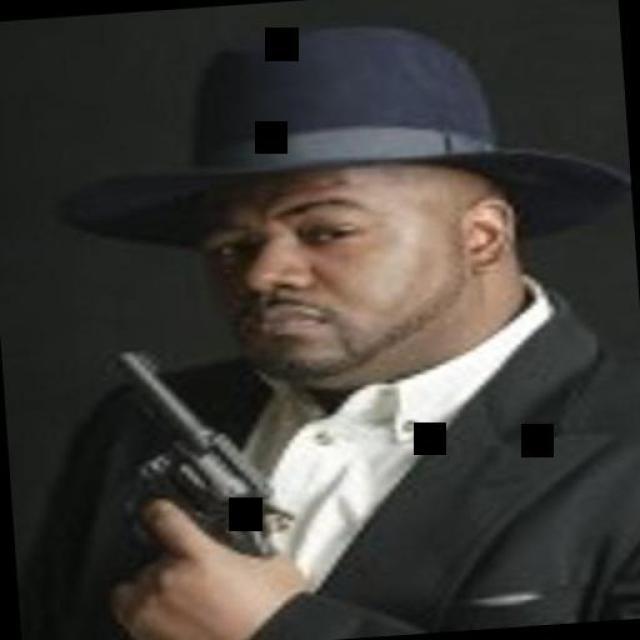gun: (80, 325, 308, 583)
